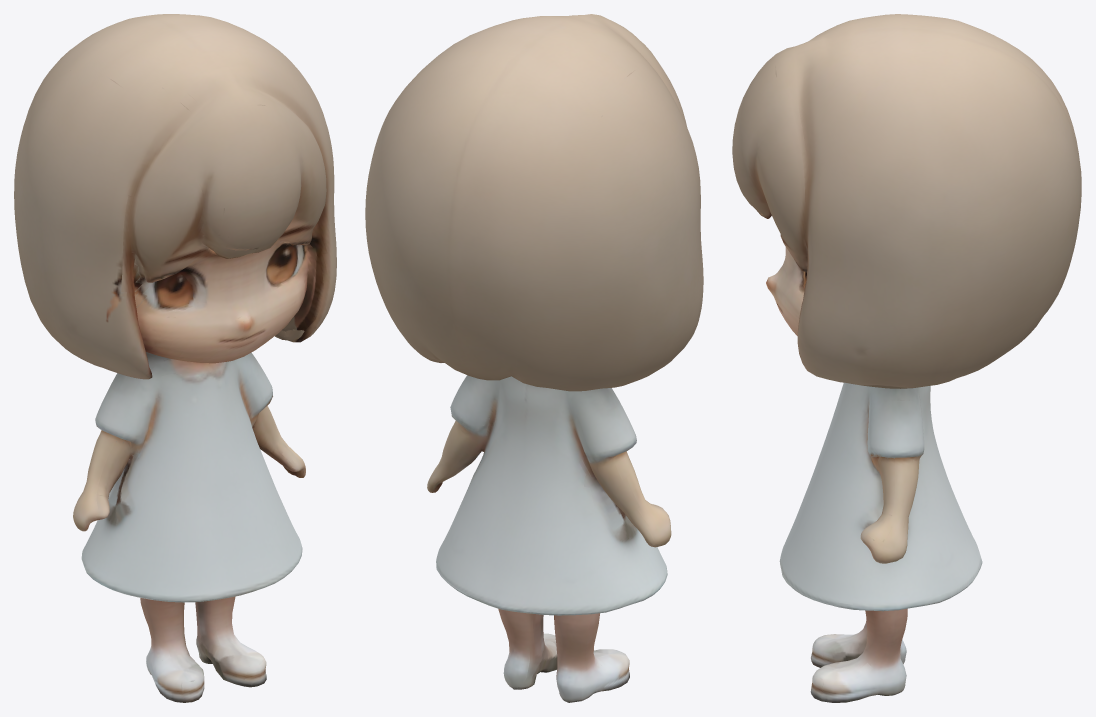
The model's file is base_basic_shaded.glb.
The picture shows the model from 3 angles, left to right: view 1: azimuth 30°, elevation 25°; view 2: azimuth 150°, elevation 25°; view 3: azimuth 270°, elevation 25°; orthographic projection. The views are drawn at different scales.
Visible parts, largest first — view 1: model; view 2: model; view 3: model.
Part boxes in pixels (left/top/right/bottom): model: left=14, top=14, right=336, bottom=702; model: left=365, top=14, right=703, bottom=702; model: left=732, top=14, right=1081, bottom=702.
Bounding box in the file's own units: 0.8836 × 1.9 × 0.9229.
1 material, 1 textured.
